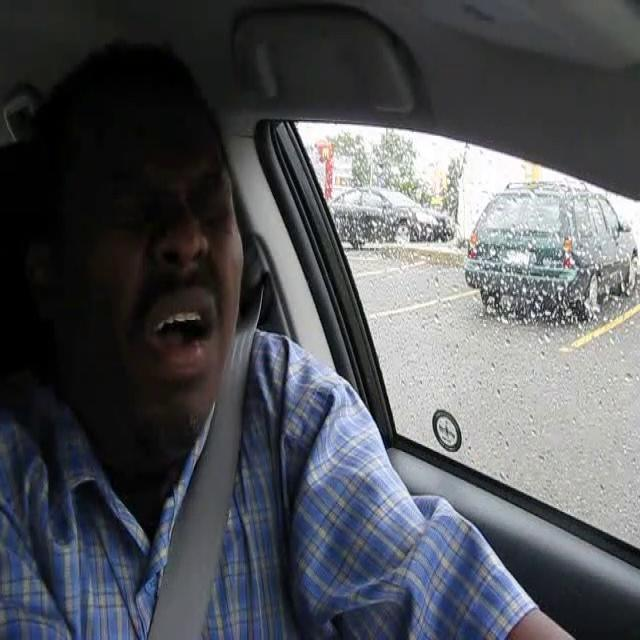open-mouth: (144, 288, 222, 370)
